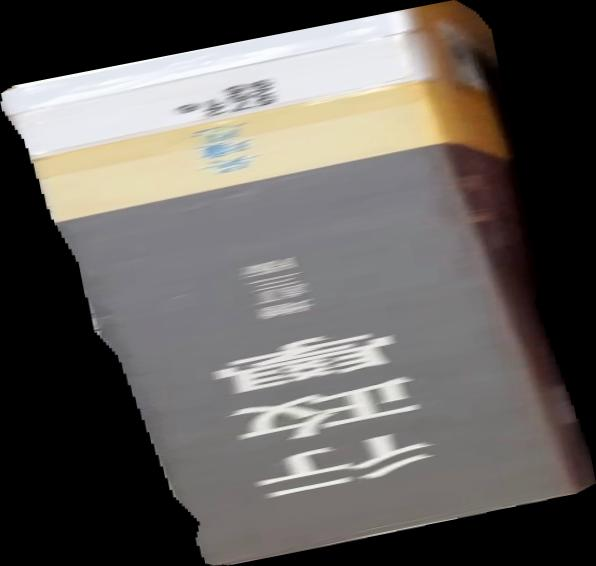reverse: (1, 1, 596, 566)
